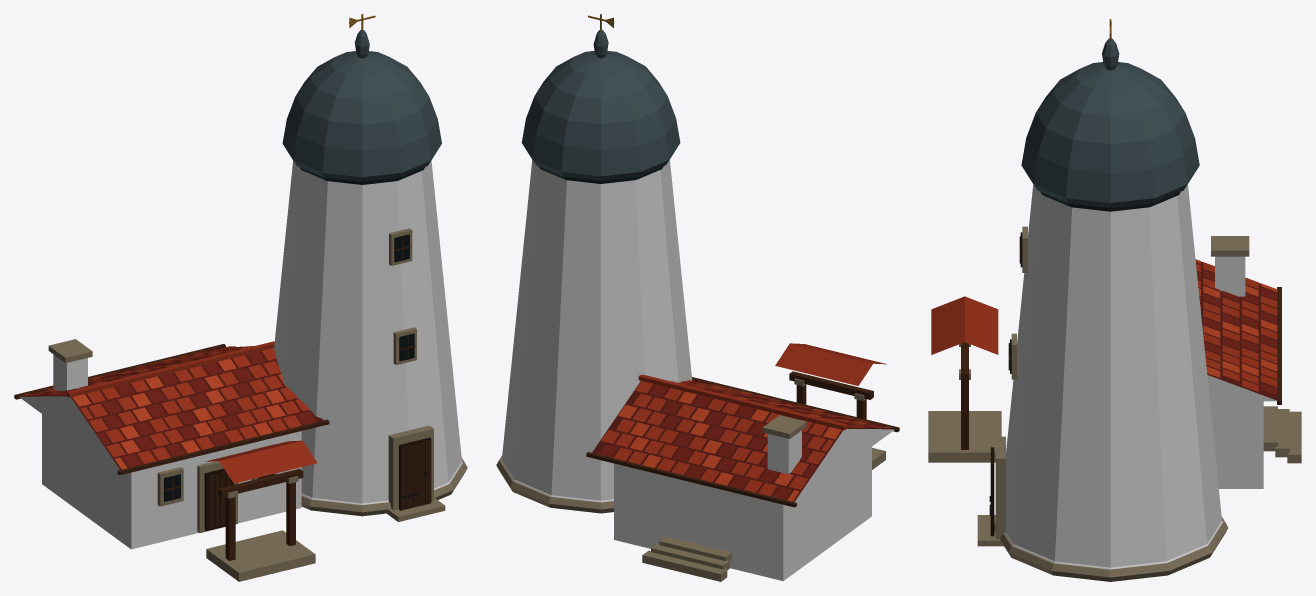
The model's file is windmill_body.obj.
3 views of the same model, side by side, from view 1: azimuth 30°, elevation 25°; view 2: azimuth 150°, elevation 25°; view 3: azimuth 270°, elevation 25° (orthographic). The views are drawn at different scales.
Parts seen in each view (by area): view 1: windmill_body; view 2: windmill_body; view 3: windmill_body.
Part boxes in pixels (<box>): windmill_body: <box>14,14,467,581</box>; windmill_body: <box>496,14,899,581</box>; windmill_body: <box>928,19,1301,581</box>.
Size of the model in its own units: 588 by 710 by 469.
